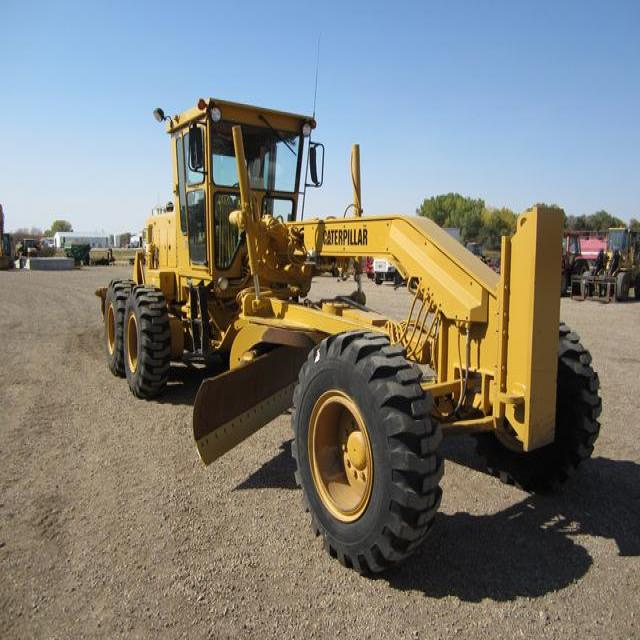Grader: (88, 75, 628, 574)
